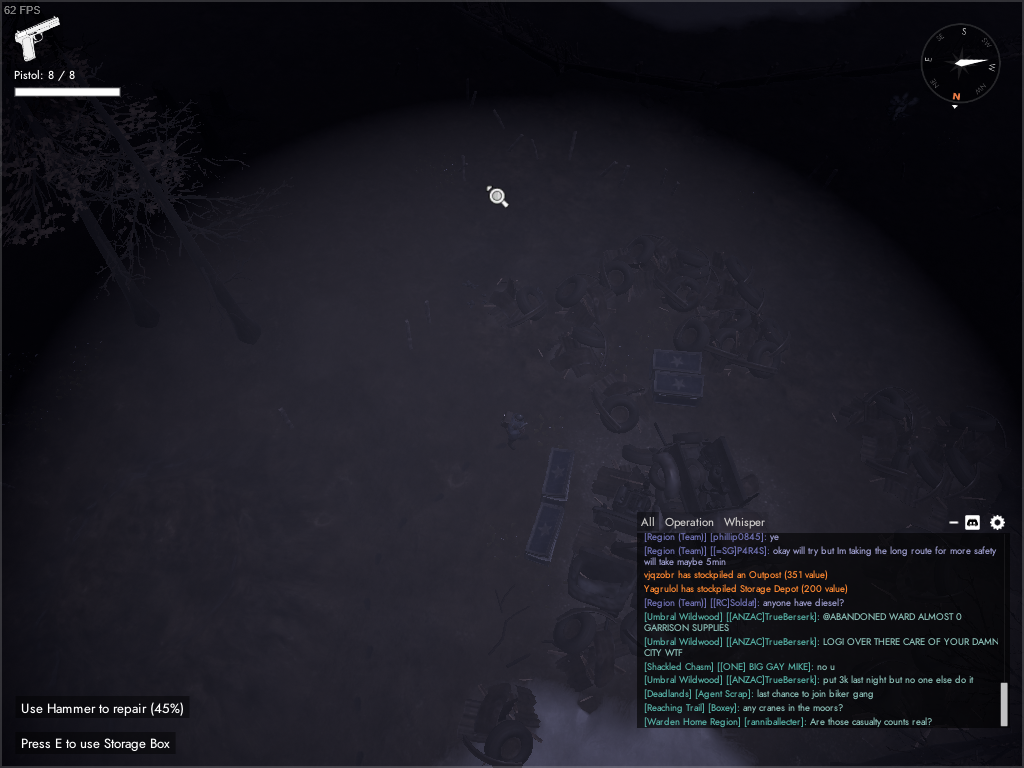player: (499, 410, 528, 452)
scrap: (863, 406, 1006, 504), (596, 234, 751, 314), (676, 307, 791, 380), (457, 678, 545, 768), (830, 381, 924, 448), (537, 319, 610, 380), (587, 370, 648, 432), (481, 275, 549, 330), (557, 269, 617, 321)
scrapyard: (553, 421, 762, 716)
storage_box: (522, 502, 566, 568), (538, 445, 576, 508), (651, 370, 706, 408), (648, 346, 705, 371)
